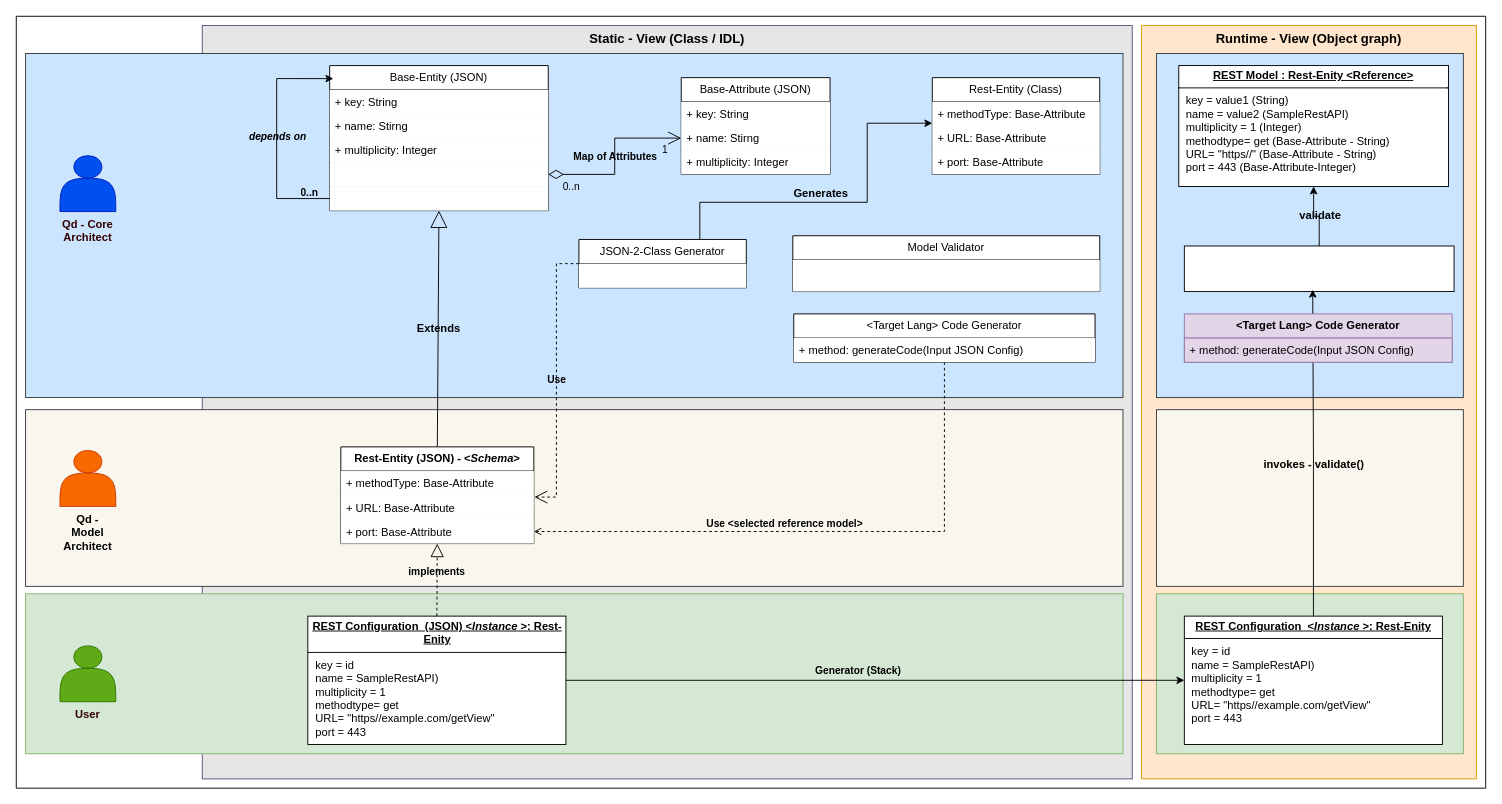
The diagram is 1502 pixels wide and 804 high, and some of its shapes have lost their labels. The centre of each missing label's shape, as x and y in pixels:
+ attributes: map (String, Base-Attribute): point 438,174
+ depends: List (*Base-Entity): point 438,198
+ method: Bool validate ( model instance, Model-Entity): point 945,275
+ method: generate(JSON): point 662,275
Validator : Model Validator + method : validate( model instance, REST-Entity): point 1318,268
